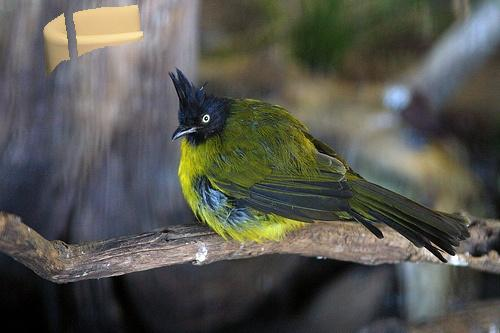tampered: (44, 6, 143, 76)
